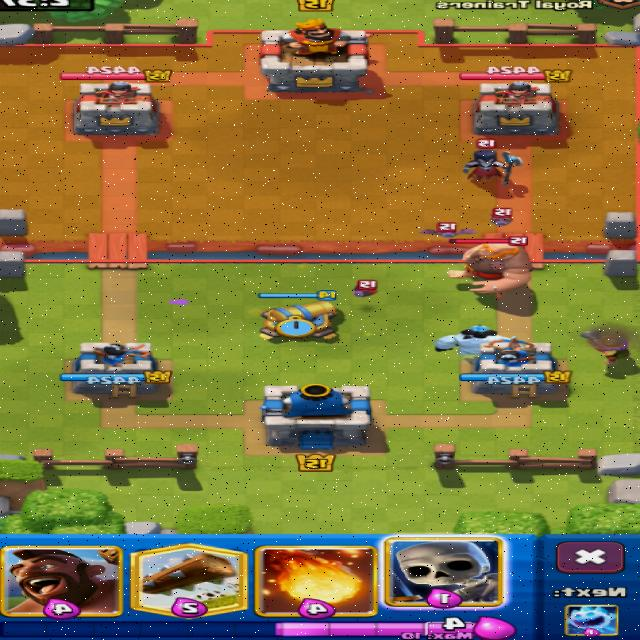Enemy-Bat: (421, 222, 474, 238), (356, 280, 377, 297), (491, 209, 512, 225)
Enemy-Giant: (450, 243, 532, 295)
Enemy-KingTower: (261, 20, 370, 92)
Enemy-NightWitch: (464, 148, 523, 184), (479, 140, 494, 146)
Enemy-PrincessTower: (74, 82, 159, 135), (474, 81, 558, 133)
Player-Cannon: (262, 302, 338, 338)
Player-IceGolem: (437, 326, 510, 354)
Player-KingTower: (262, 383, 371, 449)
Player-Musketeer: (582, 330, 629, 365)
Player-PrincessTower: (460, 338, 571, 397), (73, 343, 158, 394)
